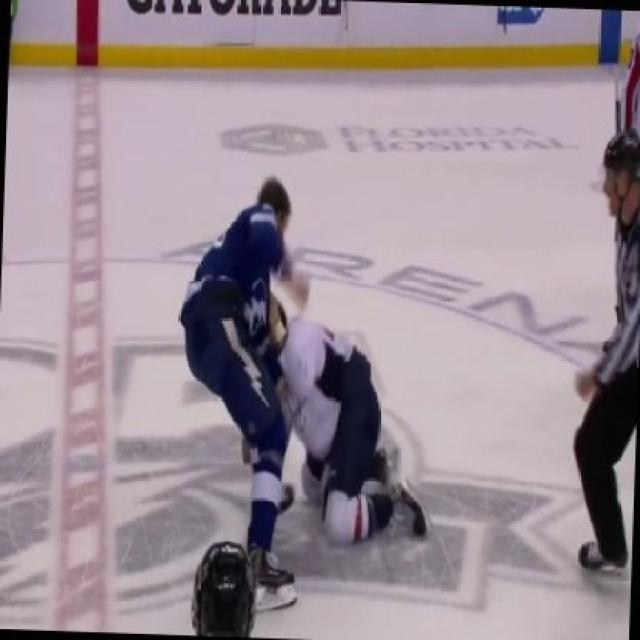fight: (160, 165, 423, 609)
non-fight: (534, 112, 638, 590)
